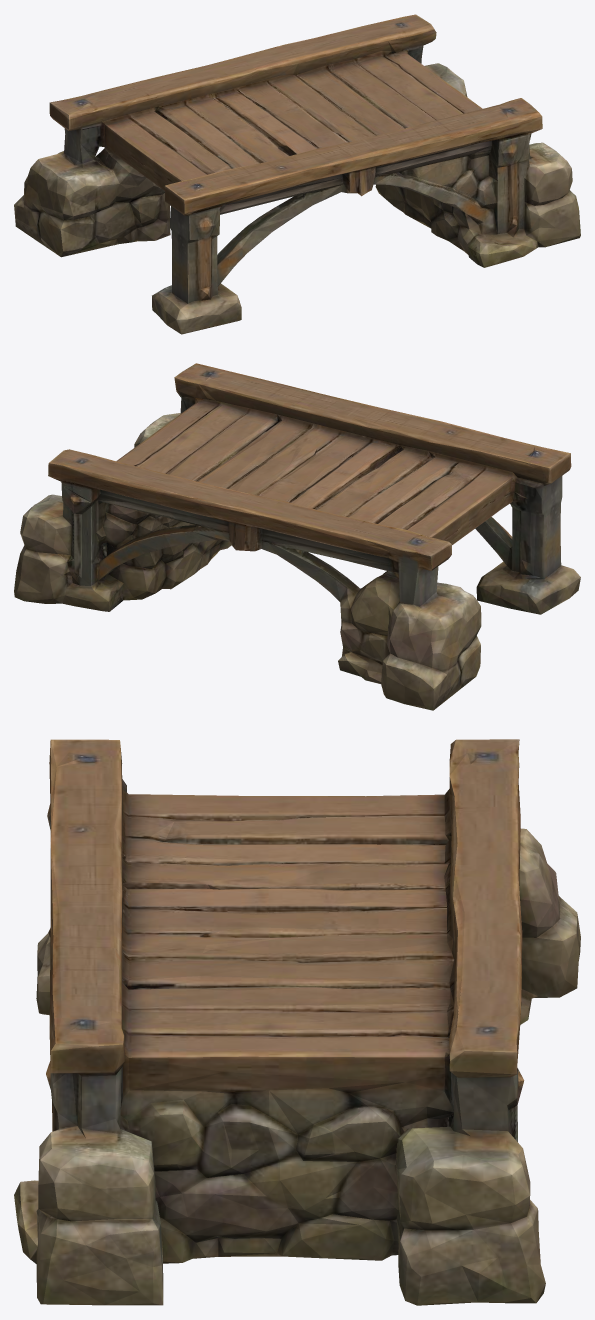
Rendered from bridge_stone_wood_deck_lod0.glb.
3 renders of one model, top to bottom at view 1: azimuth 30°, elevation 25°; view 2: azimuth 150°, elevation 25°; view 3: azimuth 270°, elevation 25°, orthographic. The views are drawn at different scales.
Visible parts, largest first — view 1: bridge_stone_wood_deck_lod0; view 2: bridge_stone_wood_deck_lod0; view 3: bridge_stone_wood_deck_lod0.
Part boxes in pixels (box(x1,y1,x2,y2)): bridge_stone_wood_deck_lod0: box(14, 14, 580, 334); bridge_stone_wood_deck_lod0: box(14, 363, 580, 710); bridge_stone_wood_deck_lod0: box(14, 739, 580, 1305).
Bounding box in the file's own units: 4 × 1.22 × 2.68.
Materials: 1 (1 with a texture image).
